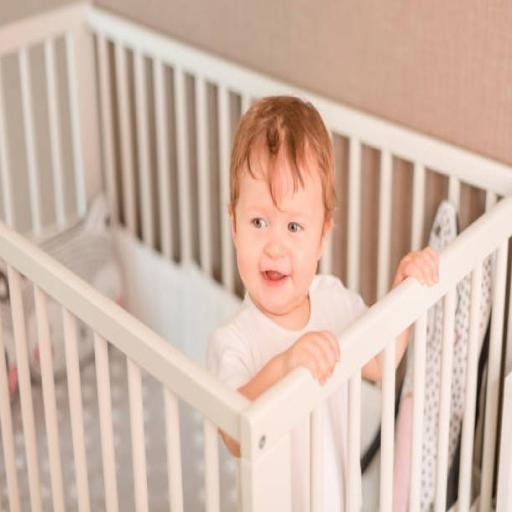baby: (208, 96, 365, 399)
crib: (0, 3, 511, 510)
